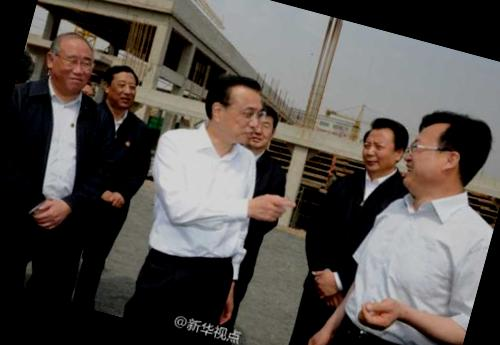no_helmet: (401, 98, 500, 208), (198, 67, 273, 150), (40, 22, 104, 95), (351, 108, 414, 182), (242, 99, 288, 158), (97, 58, 147, 112)
